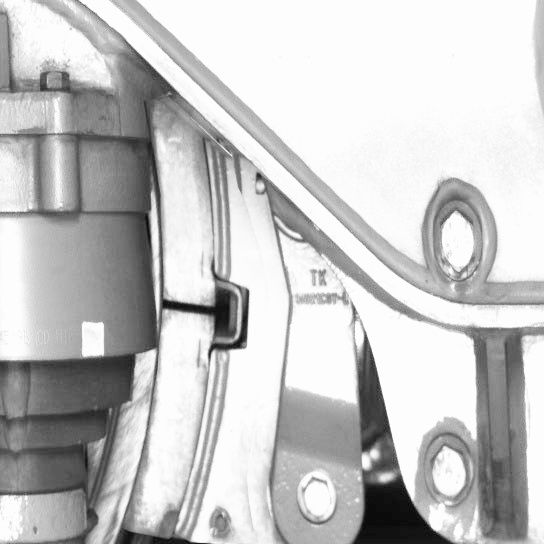ClosedKnifeSwitch: (106, 135, 229, 541)
